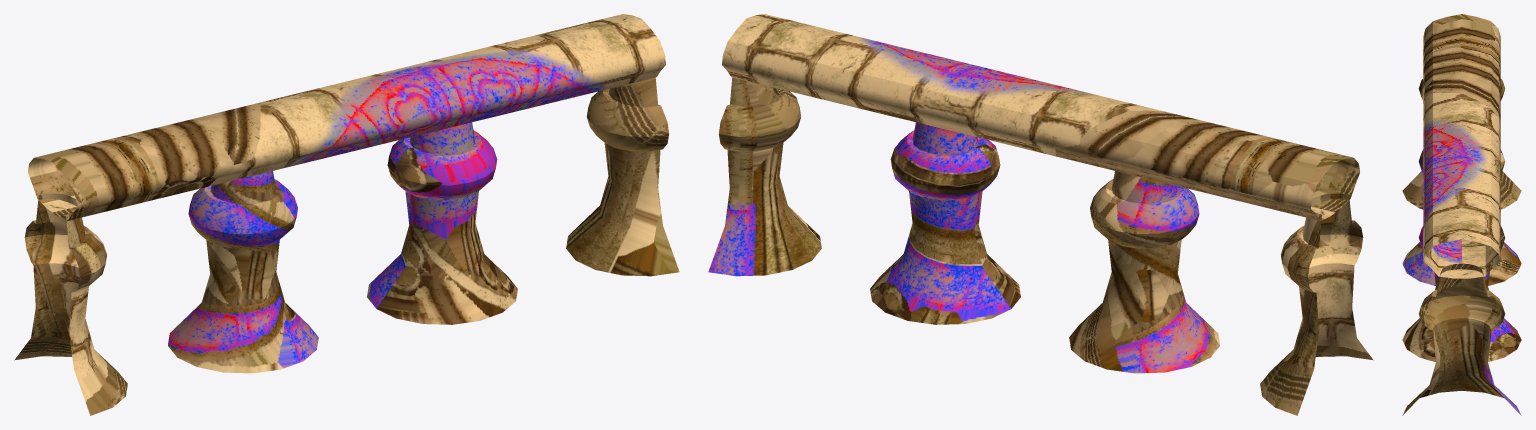
The model's file is SM_Valla1.fbx.
3 renders of one model, left to right at view 1: azimuth 30°, elevation 25°; view 2: azimuth 150°, elevation 25°; view 3: azimuth 270°, elevation 25°, orthographic. The views are drawn at different scales.
Visible parts, largest first — view 1: SM_Valla1; view 2: SM_Valla1; view 3: SM_Valla1.
Boxes of the visible parts, x1,y1,x2,y2 form: SM_Valla1: (14,14,679,415); SM_Valla1: (708,14,1373,415); SM_Valla1: (1402,14,1521,415).
Size of the model in its own units: 300 by 110 by 67.17.
